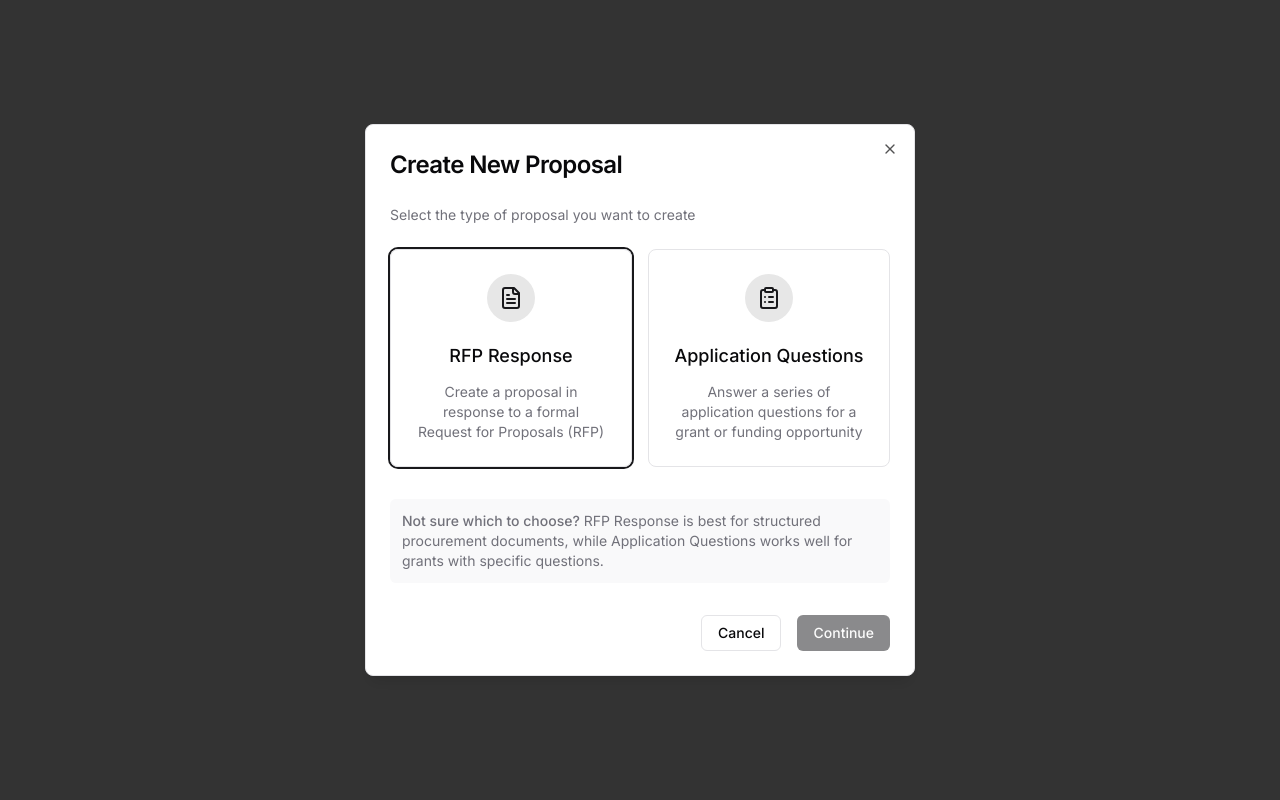
Test: ProposalTypeModal › enables continue button after selecting an option
Check: the button "Continue" is disabled, box [798, 615, 890, 651]
Note: Select RFP option
Click the radio button with test id "option-rfp" at (511, 358), box [390, 249, 632, 467]
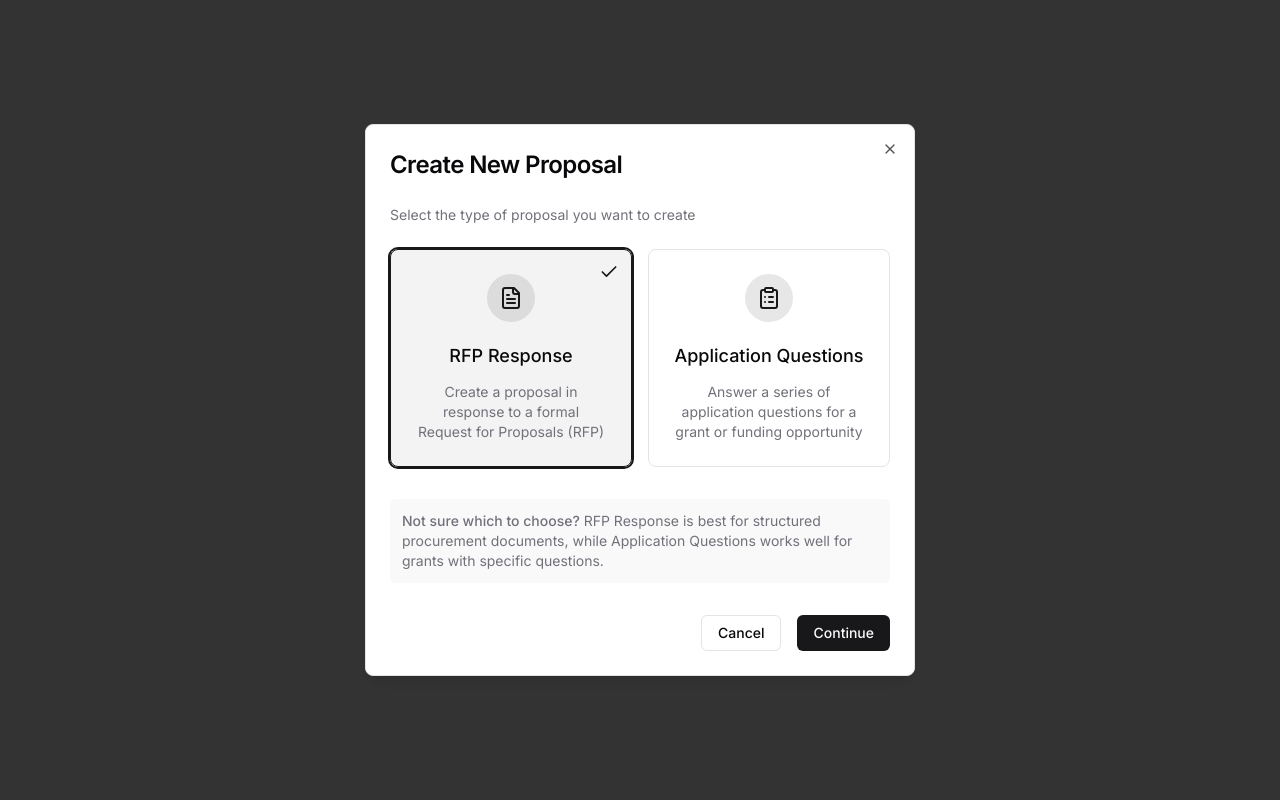
Check: the button "Continue" is enabled, box [798, 615, 890, 651]
